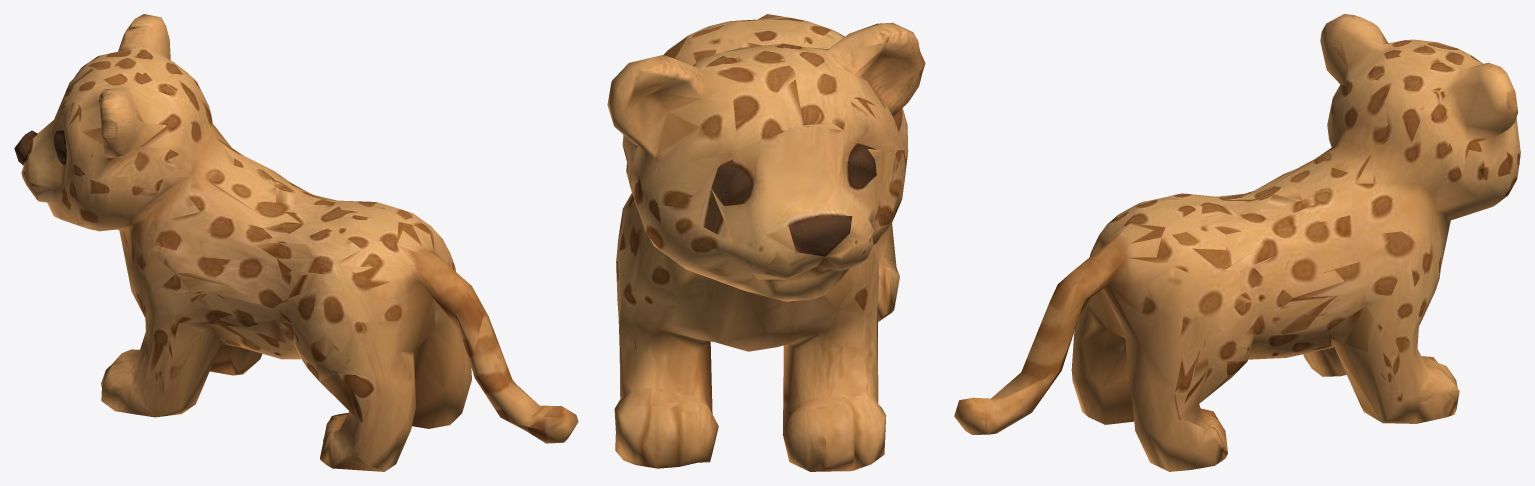
The model's file is leopard.glb.
3 views of the same model, side by side, from view 1: azimuth 30°, elevation 25°; view 2: azimuth 150°, elevation 25°; view 3: azimuth 270°, elevation 25° (orthographic). The views are drawn at different scales.
Parts seen in each view (by area): view 1: animal_leopard; view 2: animal_leopard; view 3: animal_leopard.
Part boxes in pixels (box(x1,y1,x2,y2)): animal_leopard: box(14, 14, 578, 471); animal_leopard: box(607, 14, 925, 471); animal_leopard: box(954, 14, 1520, 471).
Size of the model in its own units: 0.0383 by 0.0371 by 0.058.
1 material, 1 textured.
